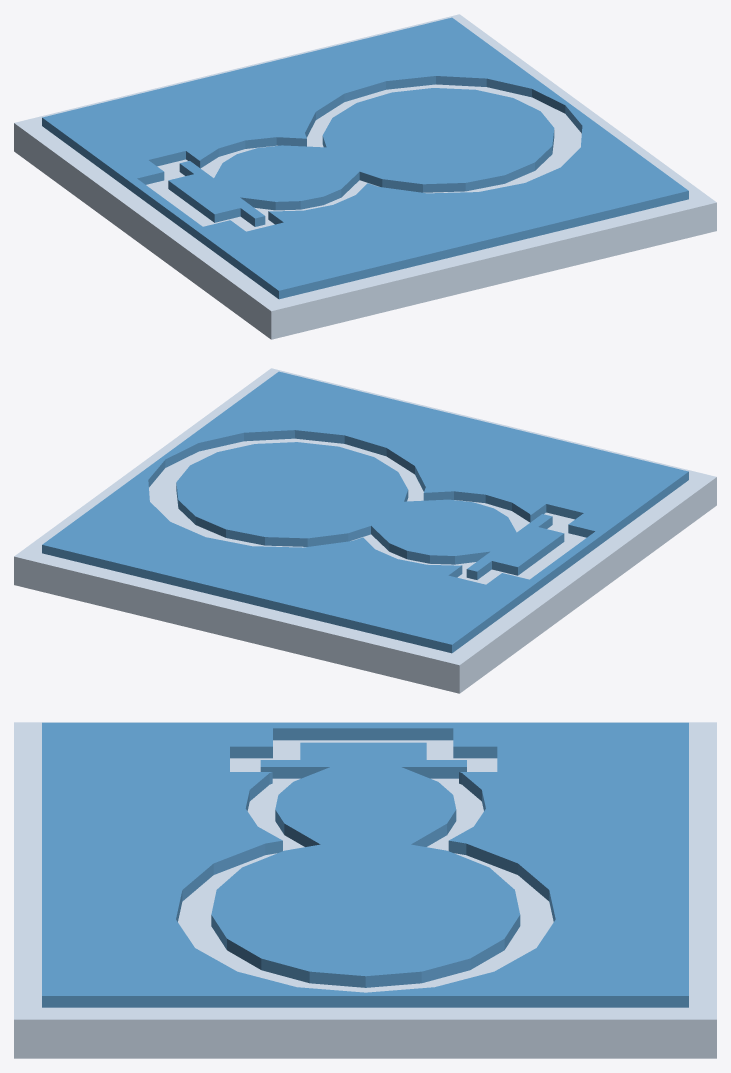
File: Button_Blue.fbx
3 views of the same model, one above another, from view 1: azimuth 30°, elevation 25°; view 2: azimuth 150°, elevation 25°; view 3: azimuth 270°, elevation 25° (orthographic). The views are drawn at different scales.
Visible parts, largest first — view 1: Box001; view 2: Box001; view 3: Box001.
Part boxes in pixels (left/top/right/bottom): Box001: left=14, top=14, right=716, bottom=339; Box001: left=14, top=368, right=716, bottom=693; Box001: left=14, top=722, right=716, bottom=1058.
Bounding box in the file's own units: 1 × 0.0795 × 1.
1 material, 1 textured.
